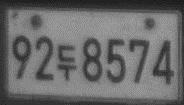2: (35, 35, 55, 83)
4: (150, 39, 176, 87)
5: (104, 35, 126, 84)
7: (128, 36, 152, 84)
8: (81, 35, 103, 82)
9: (10, 34, 31, 80)
두: (55, 43, 78, 81)
